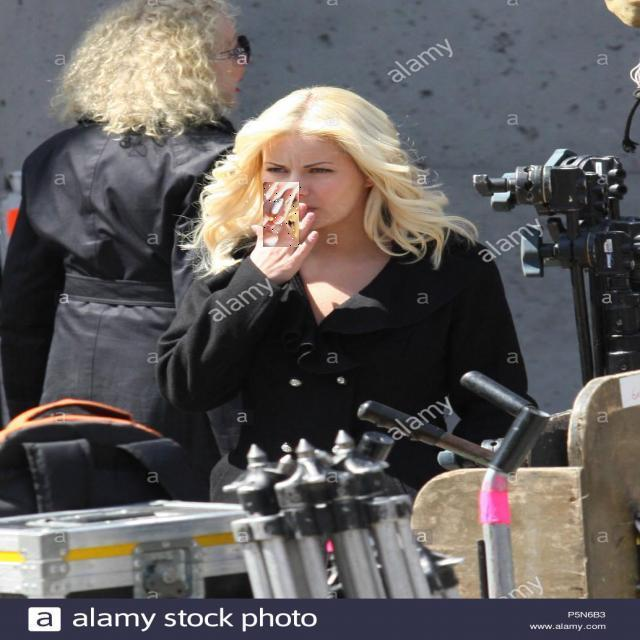smoking: (264, 182, 302, 247)
